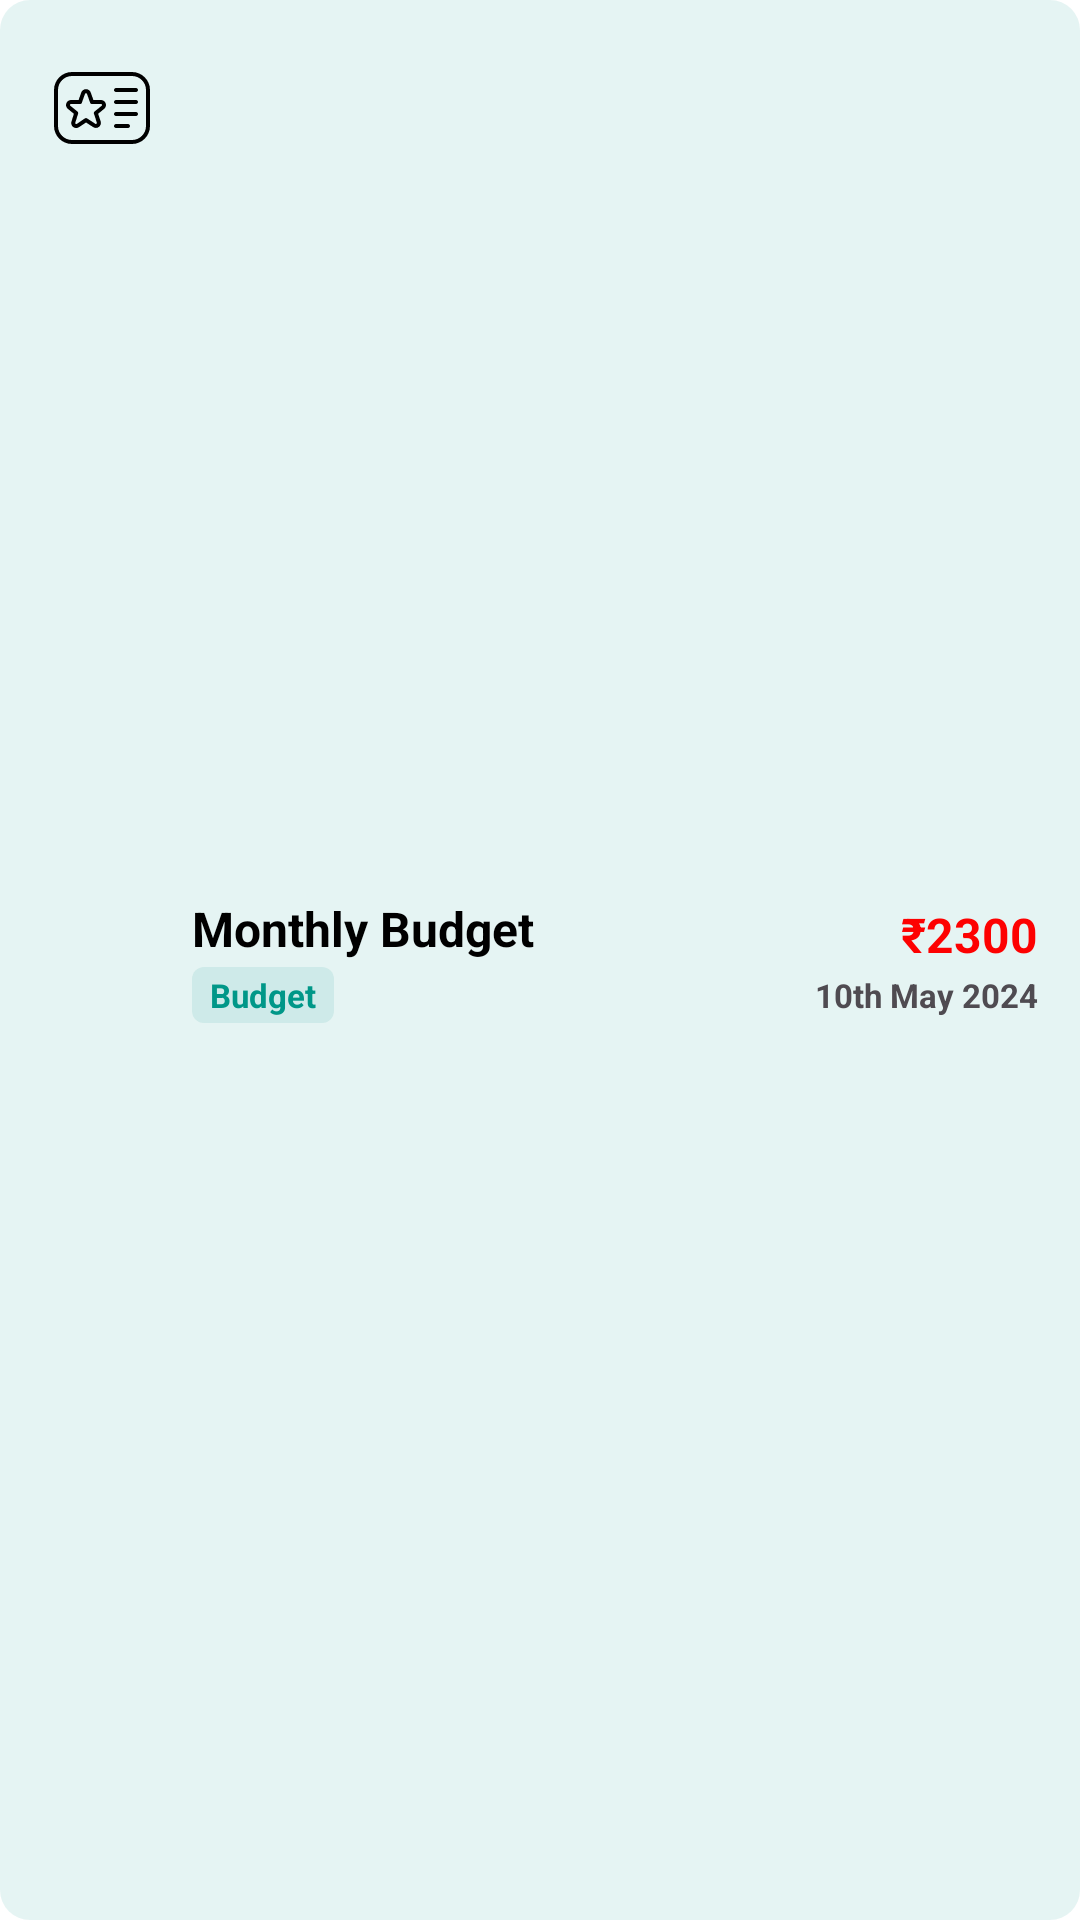

Screen size 1080×1920. Icon name, then its center in pixels as point (x, y):
membership: point (102, 108)
